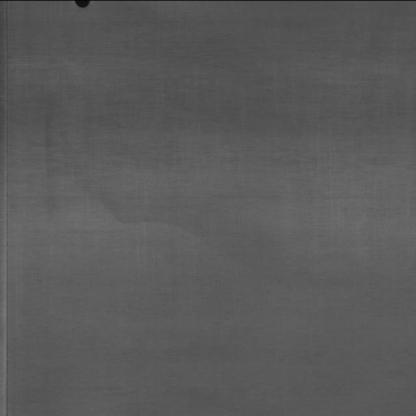punching_hole: (69, 0, 89, 7)
